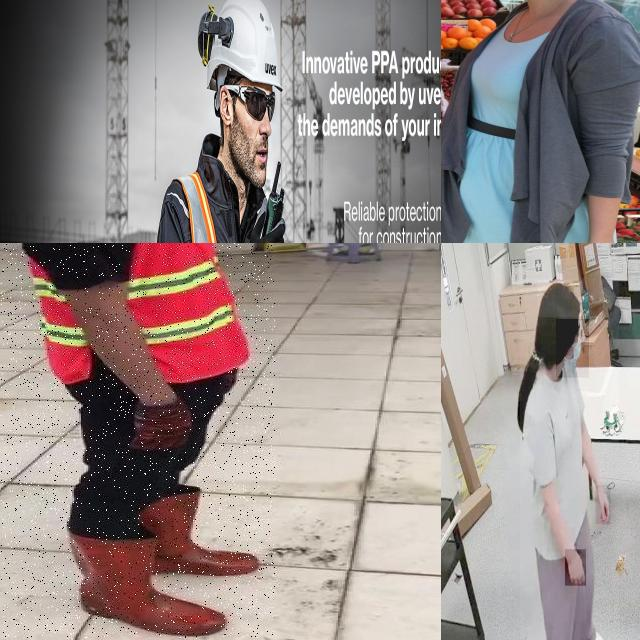Ear-protection: (195, 0, 210, 71)
boots: (70, 534, 222, 635), (138, 490, 264, 575)
face_mask: (556, 319, 589, 378)
glasses: (233, 81, 277, 120)
hand_glove: (245, 217, 291, 243)
hand_noglove: (565, 549, 587, 587), (595, 485, 611, 525)
head_helmet: (209, 0, 284, 97)
head_nohelmet: (538, 280, 582, 318)
person: (1, 243, 275, 638), (149, 0, 338, 243), (520, 278, 619, 640)
shoes: (571, 615, 608, 640)
vest: (7, 243, 259, 380), (157, 161, 269, 243)
